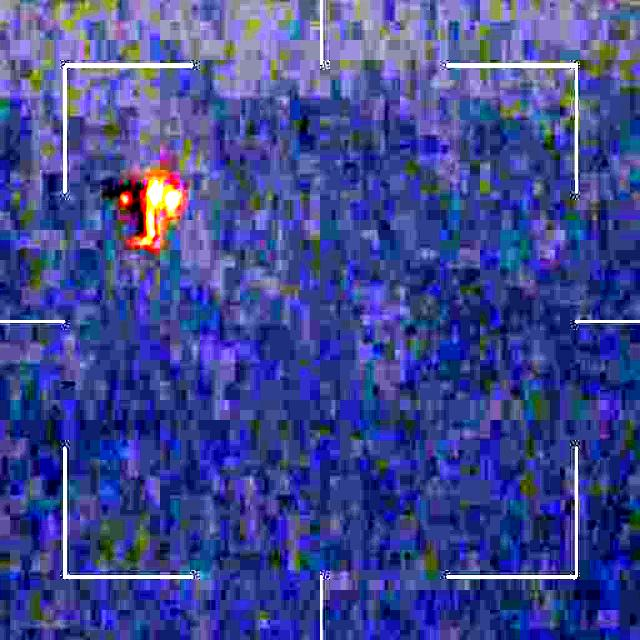bird: (99, 165, 185, 264)
